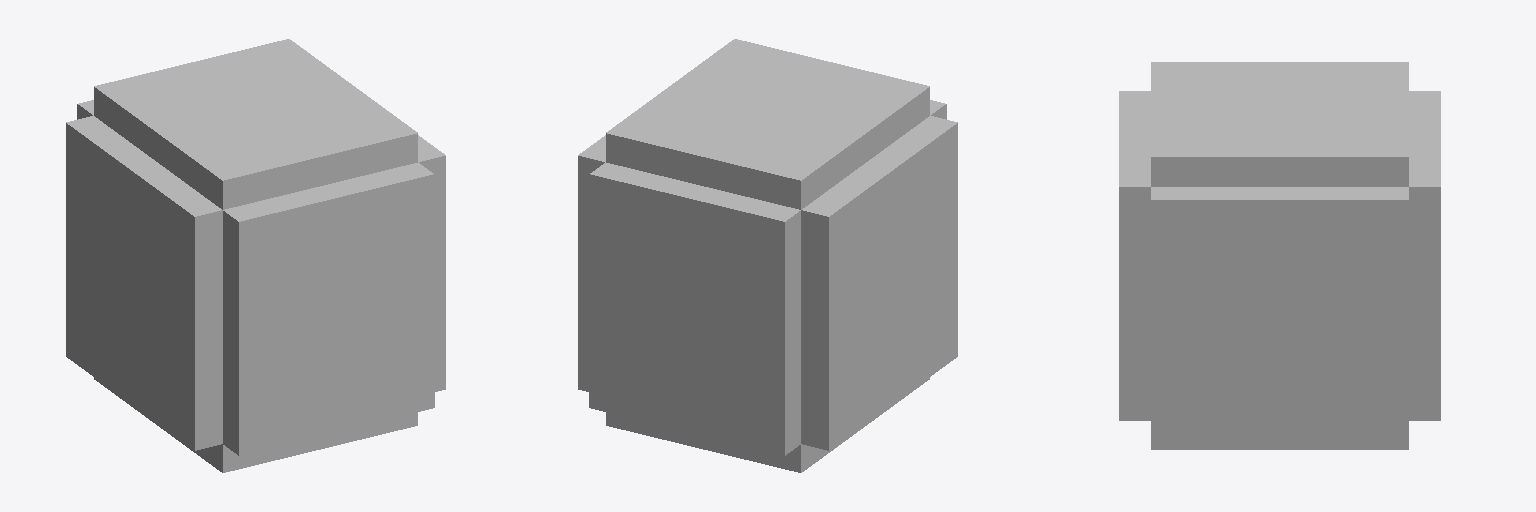
File: Player.obj
3 renders of one model, left to right at view 1: azimuth 30°, elevation 25°; view 2: azimuth 150°, elevation 25°; view 3: azimuth 270°, elevation 25°, orthographic.
Visible parts, largest first — view 1: object 1; view 2: object 1; view 3: object 1.
Part boxes in pixels (x1,y1,x2,y2): object 1: (66,39,445,472); object 1: (578,39,957,472); object 1: (1119,62,1440,449).
Size of the model in its own units: 0.9 by 1 by 1.